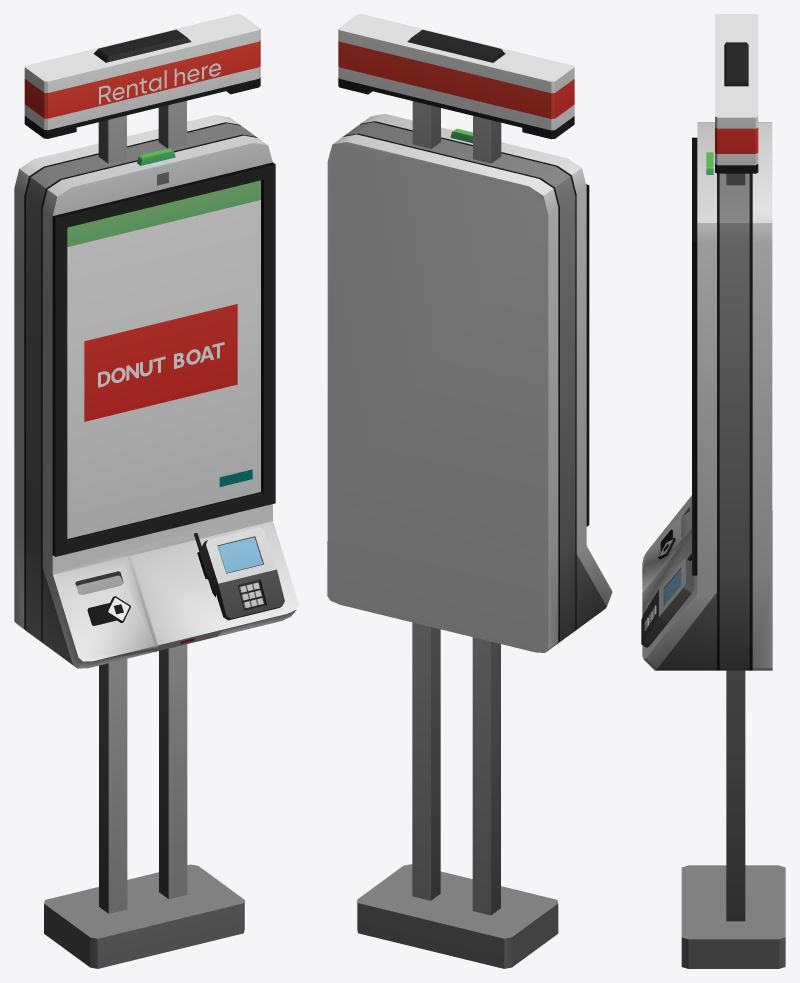
The model's file is VE_Kiosk_006.FBX.
3 views of the same model, side by side, from view 1: azimuth 30°, elevation 25°; view 2: azimuth 150°, elevation 25°; view 3: azimuth 270°, elevation 25° (orthographic). The views are drawn at different scales.
Parts seen in each view (by area): view 1: VE_Kiosk_006, unlit; view 2: VE_Kiosk_006, unlit; view 3: VE_Kiosk_006, unlit.
Boxes of the visible parts, <box> form: VE_Kiosk_006: <box>14,14,298,968</box>; unlit: <box>24,40,262,643</box>; VE_Kiosk_006: <box>327,14,612,968</box>; unlit: <box>338,40,574,143</box>; VE_Kiosk_006: <box>641,14,785,968</box>; unlit: <box>664,128,758,605</box>.
Size of the model in its own units: 48.63 by 187 by 28.09.
